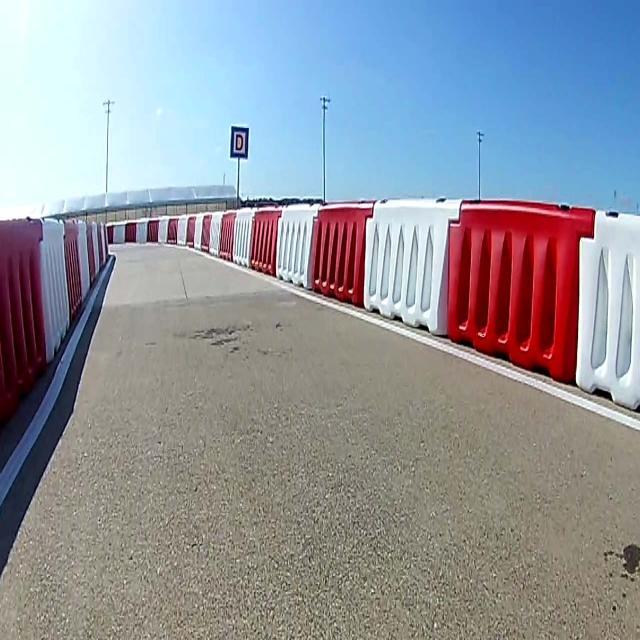durak: (230, 126, 248, 159)
